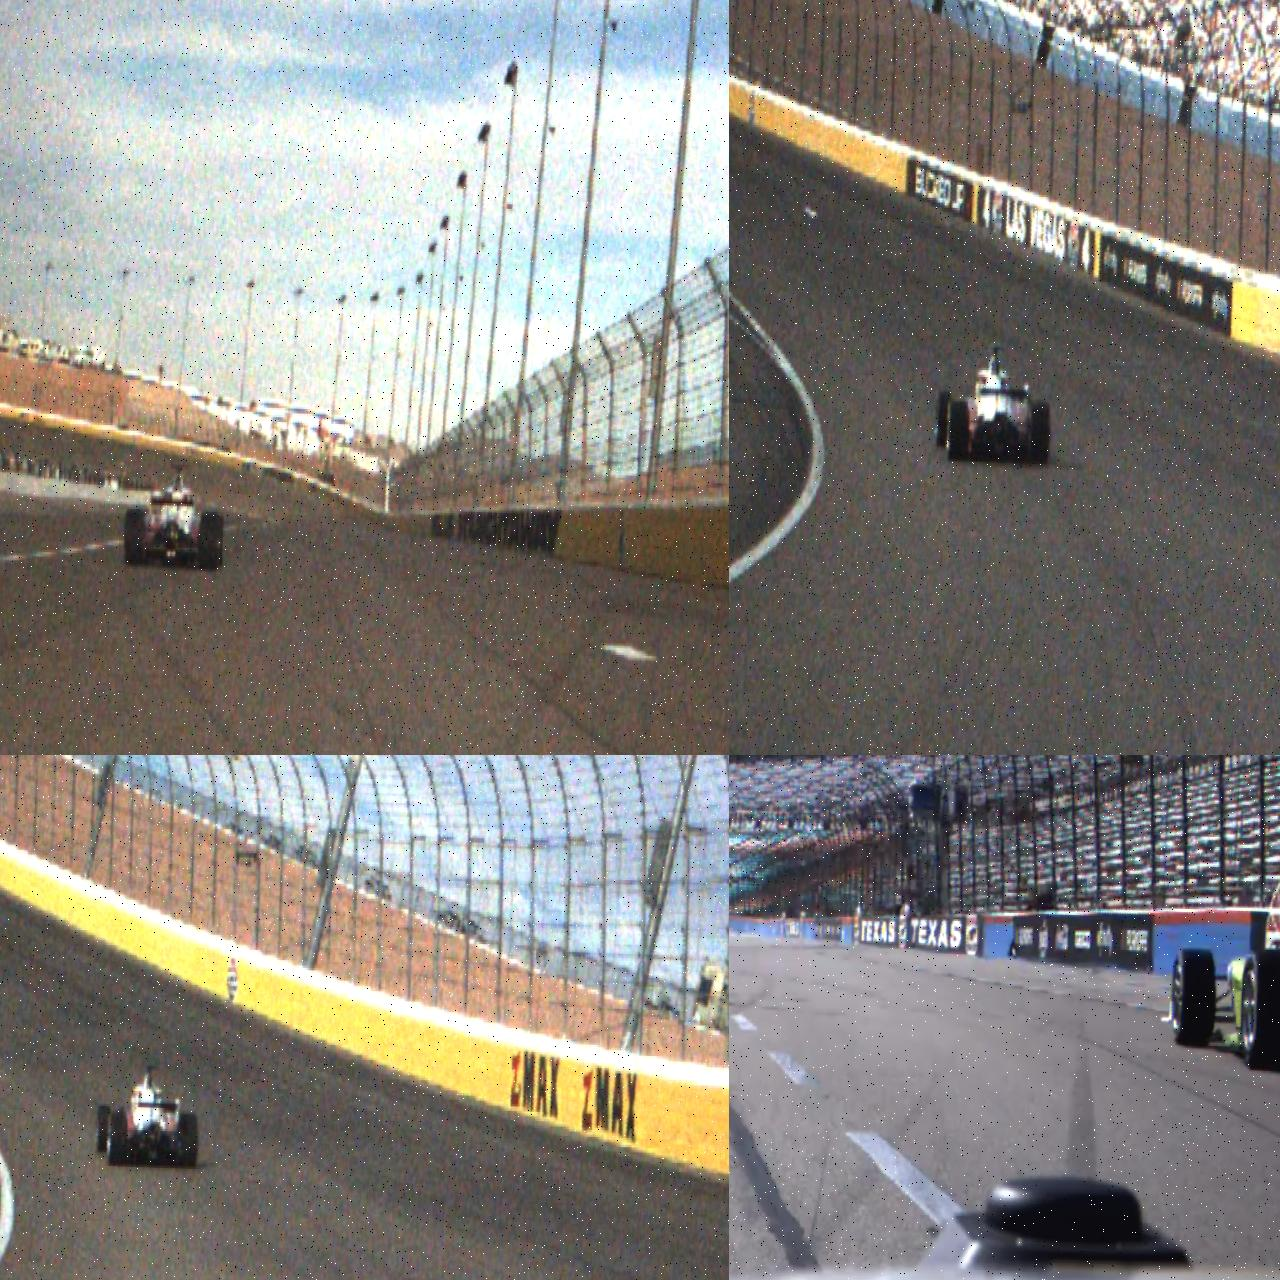AV: (1158, 905, 1280, 1071), (933, 341, 1054, 467), (93, 1062, 200, 1171), (123, 461, 226, 571)
Wheel: (1239, 947, 1280, 1070), (1170, 947, 1217, 1048), (1028, 402, 1051, 465), (946, 401, 969, 463), (123, 506, 147, 567), (198, 510, 220, 571), (107, 1111, 128, 1167), (178, 1112, 198, 1170), (934, 390, 952, 449), (94, 1104, 111, 1153)
